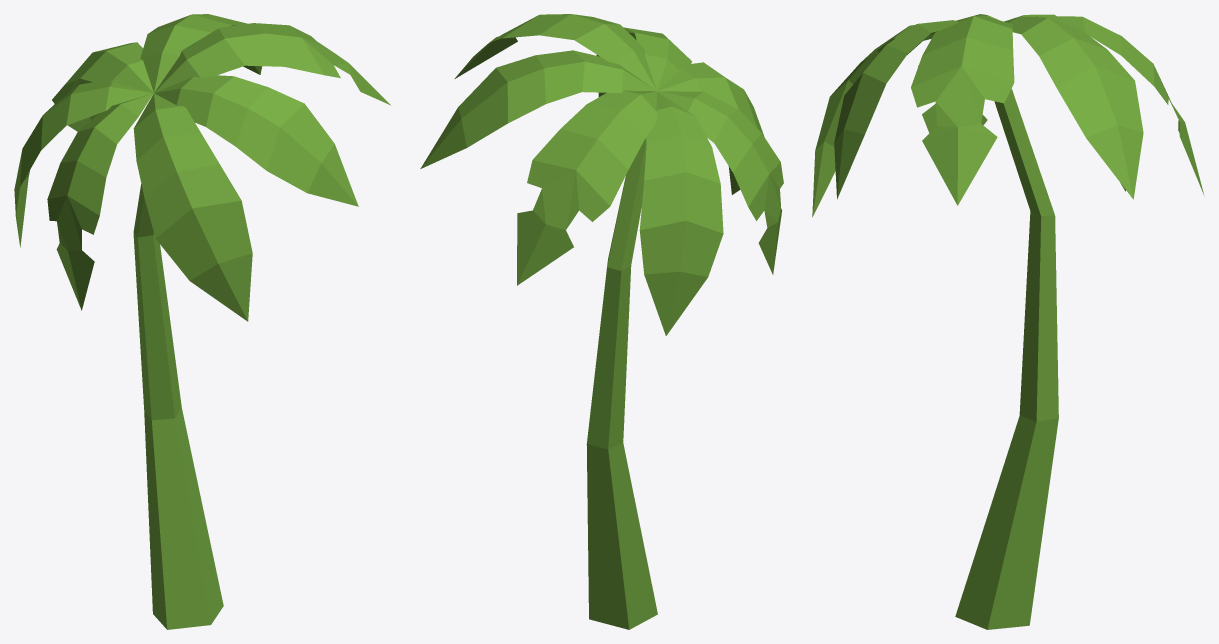
Rendered from oasis-palm-angle2.fbx.
3 views of the same model, side by side, from view 1: azimuth 30°, elevation 25°; view 2: azimuth 150°, elevation 25°; view 3: azimuth 270°, elevation 25° (orthographic). The views are drawn at different scales.
Visible parts, largest first — view 1: oasis-palm-angle2; view 2: oasis-palm-angle2; view 3: oasis-palm-angle2.
Boxes of the visible parts, box(x1,y1,x2,y2) form: oasis-palm-angle2: box(14, 14, 390, 629); oasis-palm-angle2: box(420, 14, 783, 629); oasis-palm-angle2: box(812, 14, 1204, 629).
Size of the model in its own units: 3.34 by 5.71 by 3.28.
